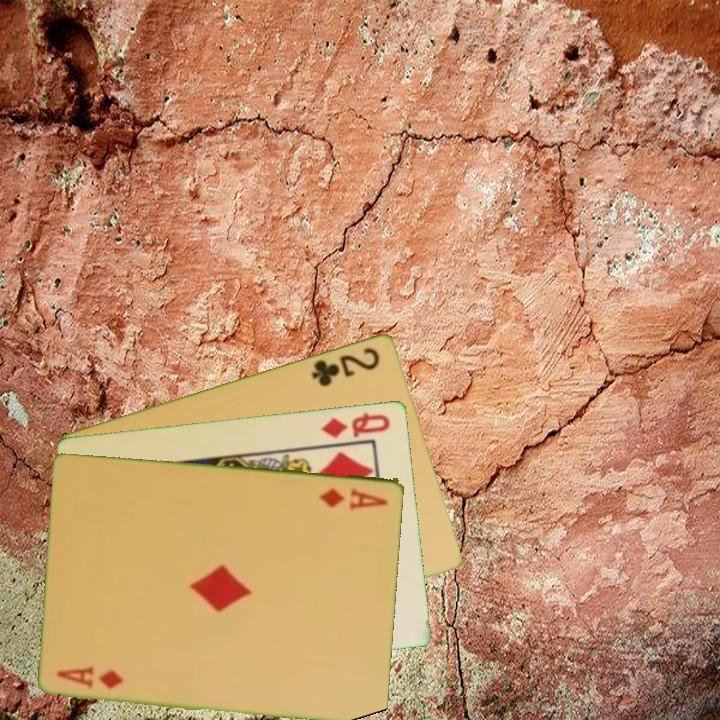2c: (308, 343, 383, 389)
Ad: (317, 484, 391, 512), (54, 664, 127, 691)
Qd: (318, 408, 393, 441)
